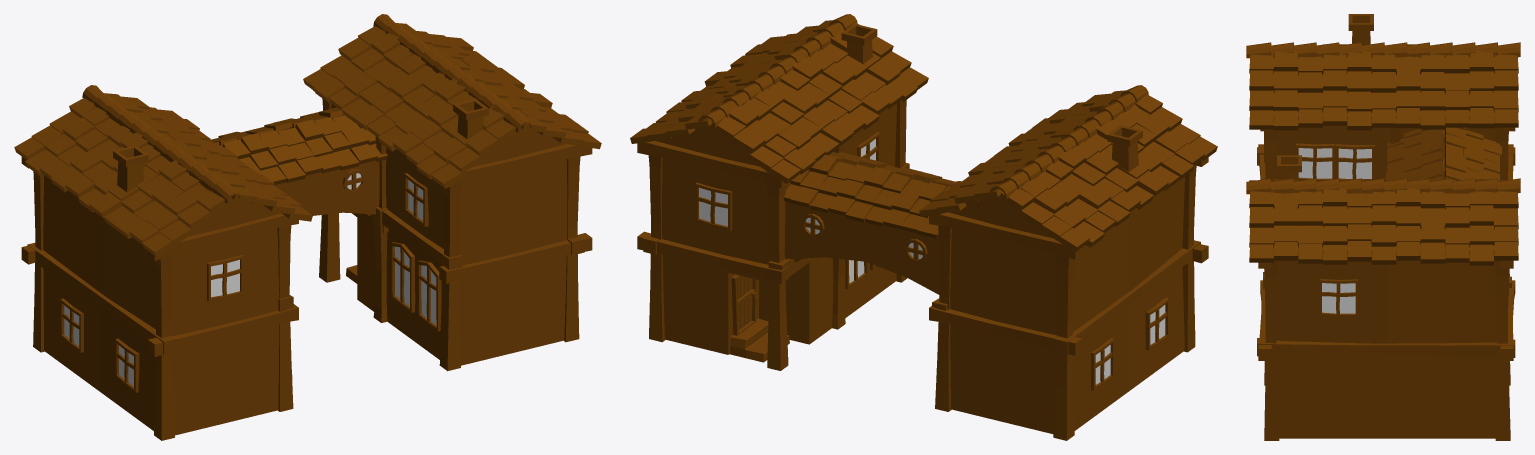
The model's file is дом1 .fbx.
3 renders of one model, left to right at view 1: azimuth 30°, elevation 25°; view 2: azimuth 150°, elevation 25°; view 3: azimuth 270°, elevation 25°, orthographic. The views are drawn at different scales.
Visible parts, largest first — view 1: Куб.010; view 2: Куб.010; view 3: Куб.010.
Part boxes in pixels (x1,y1,x2,y2): Куб.010: (14, 14, 601, 440); Куб.010: (630, 14, 1217, 440); Куб.010: (1246, 14, 1520, 440).
Bounding box in the file's own units: 457 × 239 × 252.
